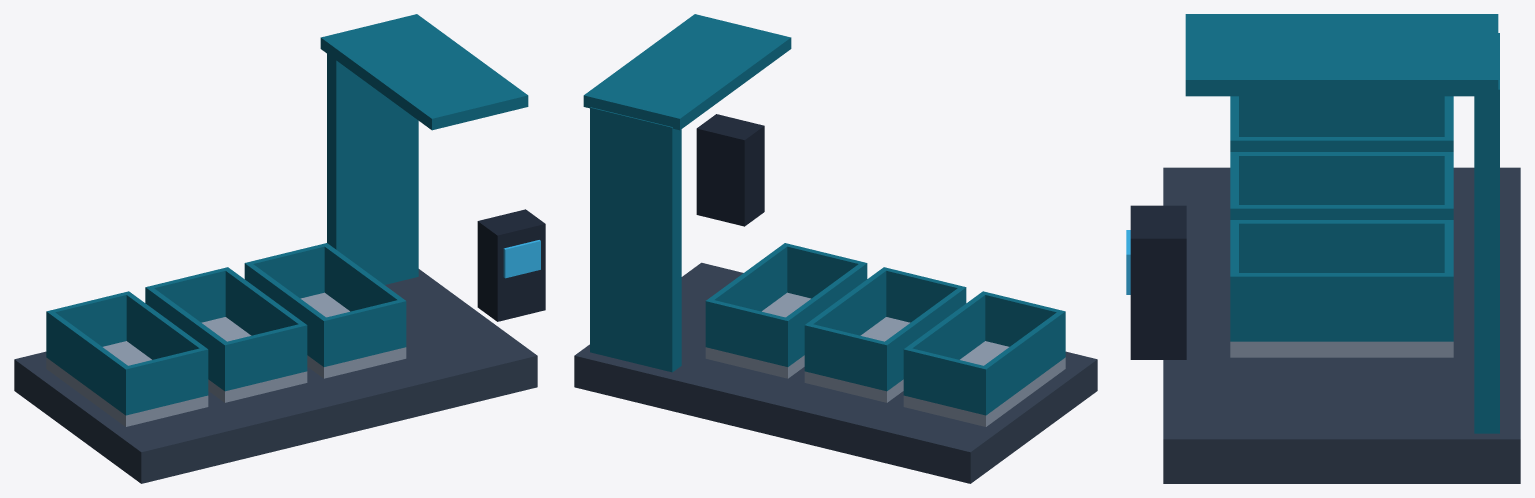
The picture shows the model from 3 angles, left to right: view 1: azimuth 30°, elevation 25°; view 2: azimuth 150°, elevation 25°; view 3: azimuth 270°, elevation 25°; orthographic projection. The views are drawn at different scales.
Visible parts, largest first — view 1: support_base, hood_3, hood_roof_3, operator_console, bath_rim_0_0.48, bath_rim_2_0.48, bath_rim_1_0.48, bath_end_0_-0.28, bath_end_0_0.28, bath_end_1_0.28, bath_end_2_0.28, bath_rim_0_-0.48 (+8 smaller); view 2: support_base, hood_3, hood_roof_3, operator_console, bath_rim_1_-0.48, bath_rim_0_-0.48, bath_rim_2_-0.48, bath_end_0_-0.28, bath_end_0_0.28, bath_end_1_0.28, bath_end_2_0.28, bath_rim_0_0.48 (+7 smaller); view 3: support_base, hood_roof_3, bath_end_2_0.28, bath_end_1_-0.28, bath_end_2_-0.28, hood_3, operator_console, bath_end_0_-0.28, bath_bottom_2, bath_end_0_0.28, bath_end_1_0.28, bath_rim_2_-0.48 (+5 smaller).
Boxes of the visible parts, x1=… form: support_base: x1=14, y1=269, x2=537, y2=483; hood_3: x1=327, y1=54, x2=418, y2=284; hood_roof_3: x1=320, y1=14, x2=528, y2=130; operator_console: x1=477, y1=209, x2=545, y2=321; bath_rim_0_0.48: x1=122, y1=347, x2=208, y2=415; bath_rim_2_0.48: x1=320, y1=299, x2=406, y2=366; bath_rim_1_0.48: x1=221, y1=323, x2=307, y2=391; bath_end_0_-0.28: x1=48, y1=312, x2=128, y2=412; bath_end_0_0.28: x1=126, y1=293, x2=205, y2=359; bath_end_1_0.28: x1=225, y1=268, x2=304, y2=335; bath_end_2_0.28: x1=324, y1=245, x2=402, y2=311; bath_rim_0_-0.48: x1=46, y1=291, x2=131, y2=359; support_base: x1=574, y1=262, x2=1097, y2=483; hood_3: x1=590, y1=107, x2=681, y2=372; hood_roof_3: x1=583, y1=14, x2=791, y2=130; operator_console: x1=696, y1=114, x2=764, y2=226; bath_rim_1_-0.48: x1=804, y1=323, x2=890, y2=391; bath_rim_0_-0.48: x1=903, y1=347, x2=989, y2=415; bath_rim_2_-0.48: x1=705, y1=299, x2=791, y2=366; bath_end_0_-0.28: x1=983, y1=312, x2=1062, y2=412; bath_end_0_0.28: x1=906, y1=293, x2=985, y2=359; bath_end_1_0.28: x1=808, y1=268, x2=886, y2=335; bath_end_2_0.28: x1=709, y1=245, x2=787, y2=311; bath_rim_0_0.48: x1=980, y1=291, x2=1065, y2=359; support_base: x1=1163, y1=167, x2=1520, y2=483; hood_roof_3: x1=1185, y1=14, x2=1498, y2=96; bath_end_2_0.28: x1=1235, y1=273, x2=1447, y2=341; bath_end_1_-0.28: x1=1235, y1=152, x2=1447, y2=204; bath_end_2_-0.28: x1=1237, y1=220, x2=1447, y2=272; hood_3: x1=1474, y1=33, x2=1499, y2=433; operator_console: x1=1130, y1=205, x2=1186, y2=359; bath_end_0_-0.28: x1=1239, y1=96, x2=1444, y2=136; bath_bottom_2: x1=1230, y1=341, x2=1453, y2=357; bath_end_0_0.28: x1=1235, y1=137, x2=1447, y2=151; bath_end_1_0.28: x1=1235, y1=205, x2=1447, y2=219; bath_rim_2_-0.48: x1=1444, y1=220, x2=1453, y2=341.
Bounding box in the file's own units: 2.88 × 1.99 × 1.77.
